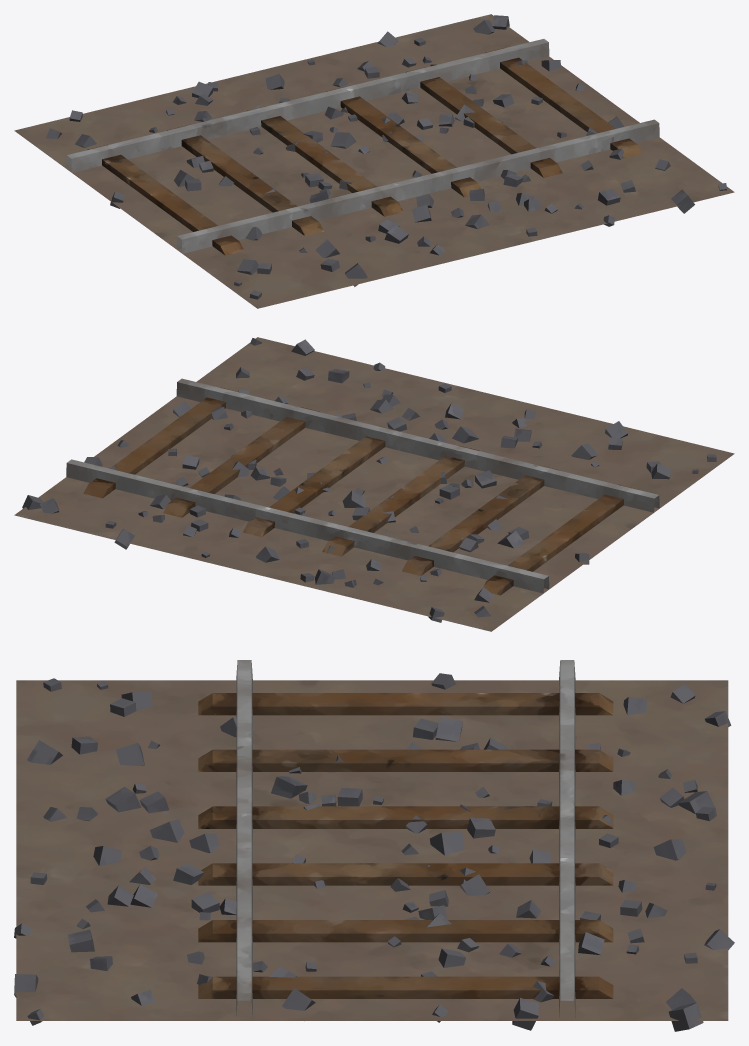
Rendered from RailsF.fbx.
3 renders of one model, top to bottom at view 1: azimuth 30°, elevation 25°; view 2: azimuth 150°, elevation 25°; view 3: azimuth 270°, elevation 25°, orthographic. The views are drawn at different scales.
Visible parts, largest first — view 1: RailsF; view 2: RailsF; view 3: RailsF.
Part boxes in pixels (x1,y1,x2,y2): RailsF: (14,14,734,308); RailsF: (14,337,734,631); RailsF: (14,660,734,1031).
Size of the model in its own units: 1012 by 53.16 by 895.
